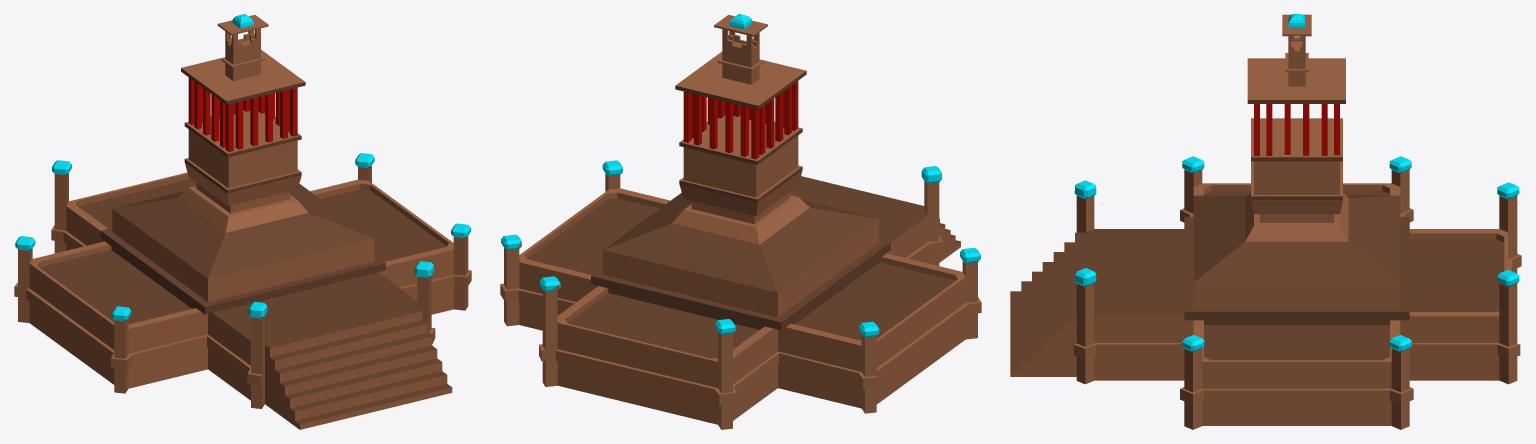
Rendered from ern-palace.glb.
3 views of the same model, side by side, from view 1: azimuth 30°, elevation 25°; view 2: azimuth 150°, elevation 25°; view 3: azimuth 270°, elevation 25° (orthographic). The views are drawn at different scales.
Parts seen in each view (by area): view 1: Plane; view 2: Plane; view 3: Plane.
Boxes of the visible parts, x1=… form: Plane: x1=14, y1=14, x2=471, y2=429; Plane: x1=500, y1=14, x2=981, y2=429; Plane: x1=1010, y1=14, x2=1521, y2=429.
Bounding box in the file's own units: 20.85 × 16.51 × 23.72.
1 material, 1 textured.
